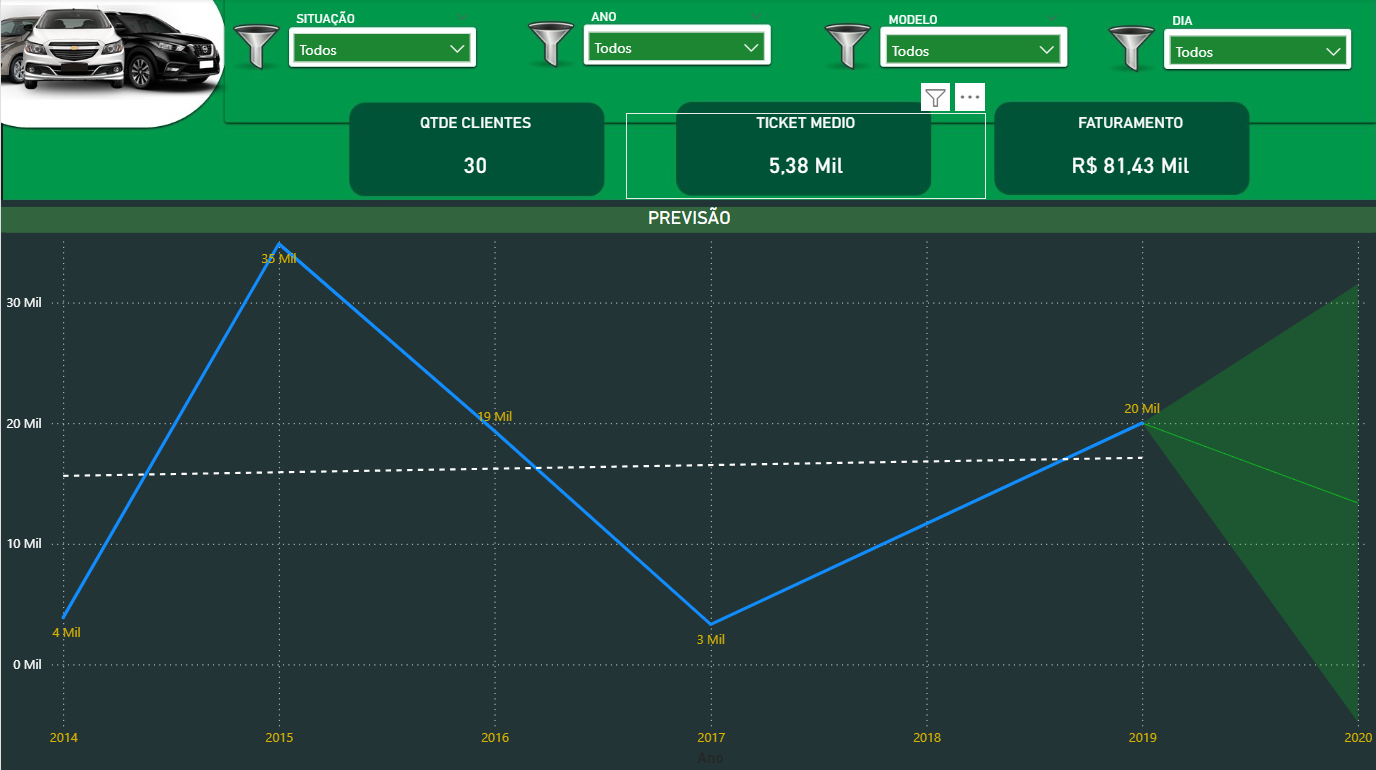

Layout of this report page (visuals, bound fields, positions):
{"tool":"powerbi","page":{"name":"PREVISÃO","canvas":[1280,720],"ordinal":3},"visuals":[{"type":"slicer","fields":{"Values":["tb_km.SITUAÇÃO CADASTRAL"]},"box":[261.6,7.1,185.3,63],"z":0},{"type":"slicer","fields":{"Values":["tb_km.Ano"]},"box":[536.5,5.3,184.4,62.1],"z":1000},{"type":"slicer","fields":{"Values":["tb_km.MODELO"]},"box":[813.1,8,182.7,62.1],"z":2000},{"type":"slicer","fields":{"Values":["tb_km.Nome do Dia"]},"box":[1076.5,8.9,185.3,62.1],"z":3000},{"type":"card","title":"QTDE CLIENTES","fields":{"Values":["tb_km.TOTAL DE CLIENTES"]},"box":[274,106.4,334.3,80.7],"z":4000},{"type":"card","title":"FATURAMENTO","fields":{"Values":["tb_km.1 FAT MEDIDA"]},"box":[883.2,106.4,334.3,80.7],"z":5000},{"type":"card","title":"TICKET MEDIO","fields":{"Values":["MEDIDAS.TCKET MEDIO SALARIO"]},"box":[581.7,106.4,334.3,80.7],"z":6000},{"type":"lineChart","title":"PREVISÃO","fields":{"Category":["tb_km.DATA.Variation.Hierarquia de datas.Ano","tb_km.DATA.Variation.Hierarquia de datas.Trimestre","tb_km.DATA.Variation.Hierarquia de datas.Mês","tb_km.DATA.Variation.Hierarquia de datas.Dia"],"Y":["Sum(tb_km.TT VENDA)"]},"box":[0,194.2,1280.4,525.8],"z":7000}]}

Visuals, with their boxes in screenshot pixels (x1, y1, x2, y2), scaled from the page's 1280x720 canvas onto the 1376x770 screenshot:
slicer - tb_km.SITUAÇÃO CADASTRAL: <bbox>281, 8, 480, 75</bbox>
slicer - tb_km.Ano: <bbox>577, 6, 775, 72</bbox>
slicer - tb_km.MODELO: <bbox>874, 9, 1070, 75</bbox>
slicer - tb_km.Nome do Dia: <bbox>1157, 10, 1356, 76</bbox>
"QTDE CLIENTES" card: <bbox>295, 114, 654, 200</bbox>
"FATURAMENTO" card: <bbox>949, 114, 1309, 200</bbox>
"TICKET MEDIO" card: <bbox>625, 114, 985, 200</bbox>
"PREVISÃO" lineChart: <bbox>0, 208, 1375, 769</bbox>
